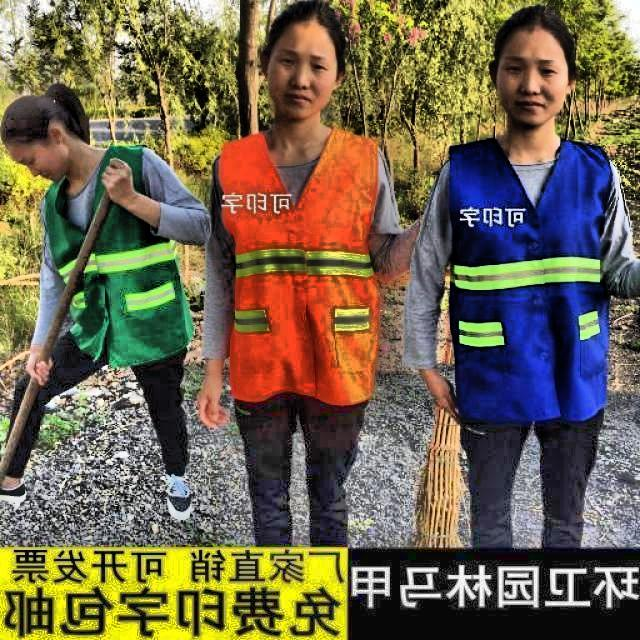safety_jacket: (443, 136, 616, 420), (225, 126, 394, 402), (47, 140, 176, 356)
